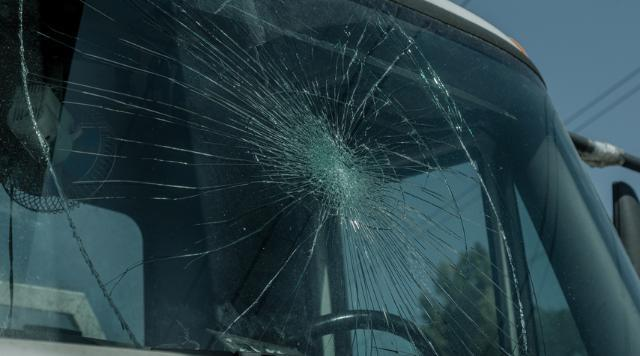Windshield: (2, 3, 623, 342)
